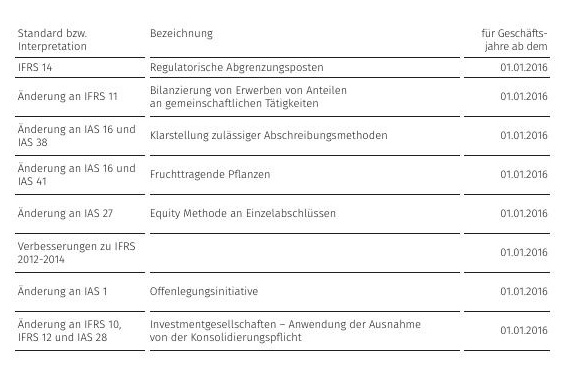table: (0, 0, 566, 366)
